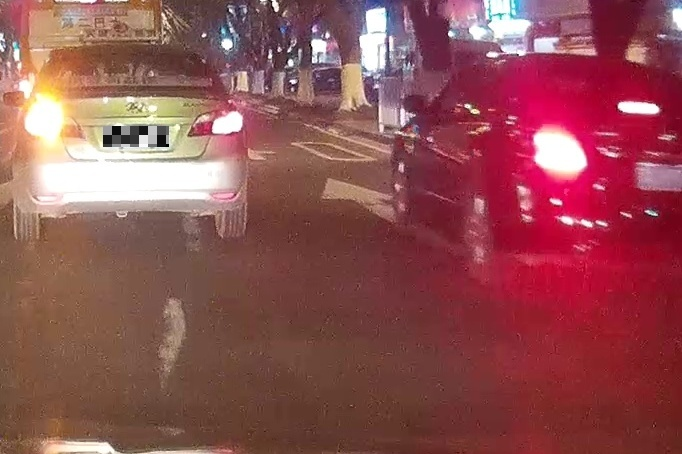L_light: (23, 92, 87, 140)
R_light: (187, 107, 244, 138)
T_light: (115, 46, 145, 53)
night-left: (13, 40, 247, 237)
plate_1: (103, 126, 169, 147)
